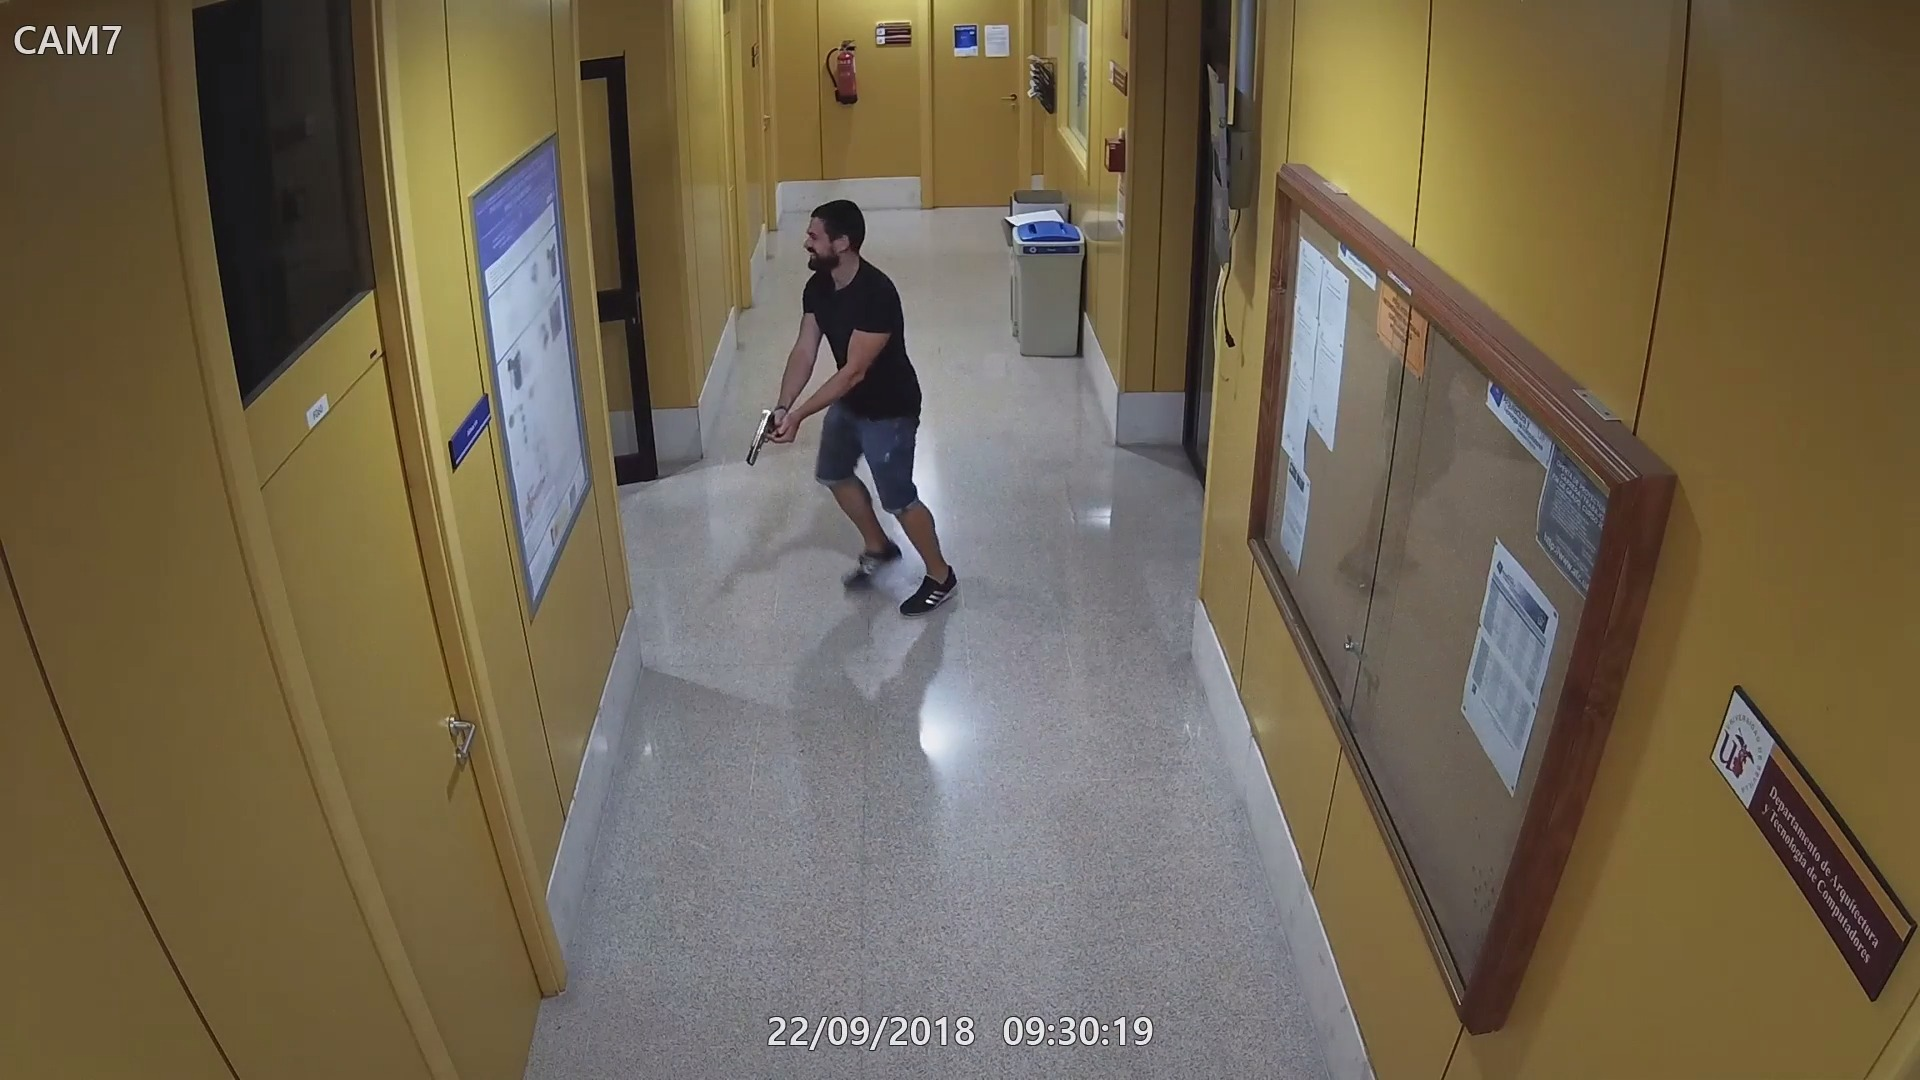Handgun: (746, 405, 798, 469)
